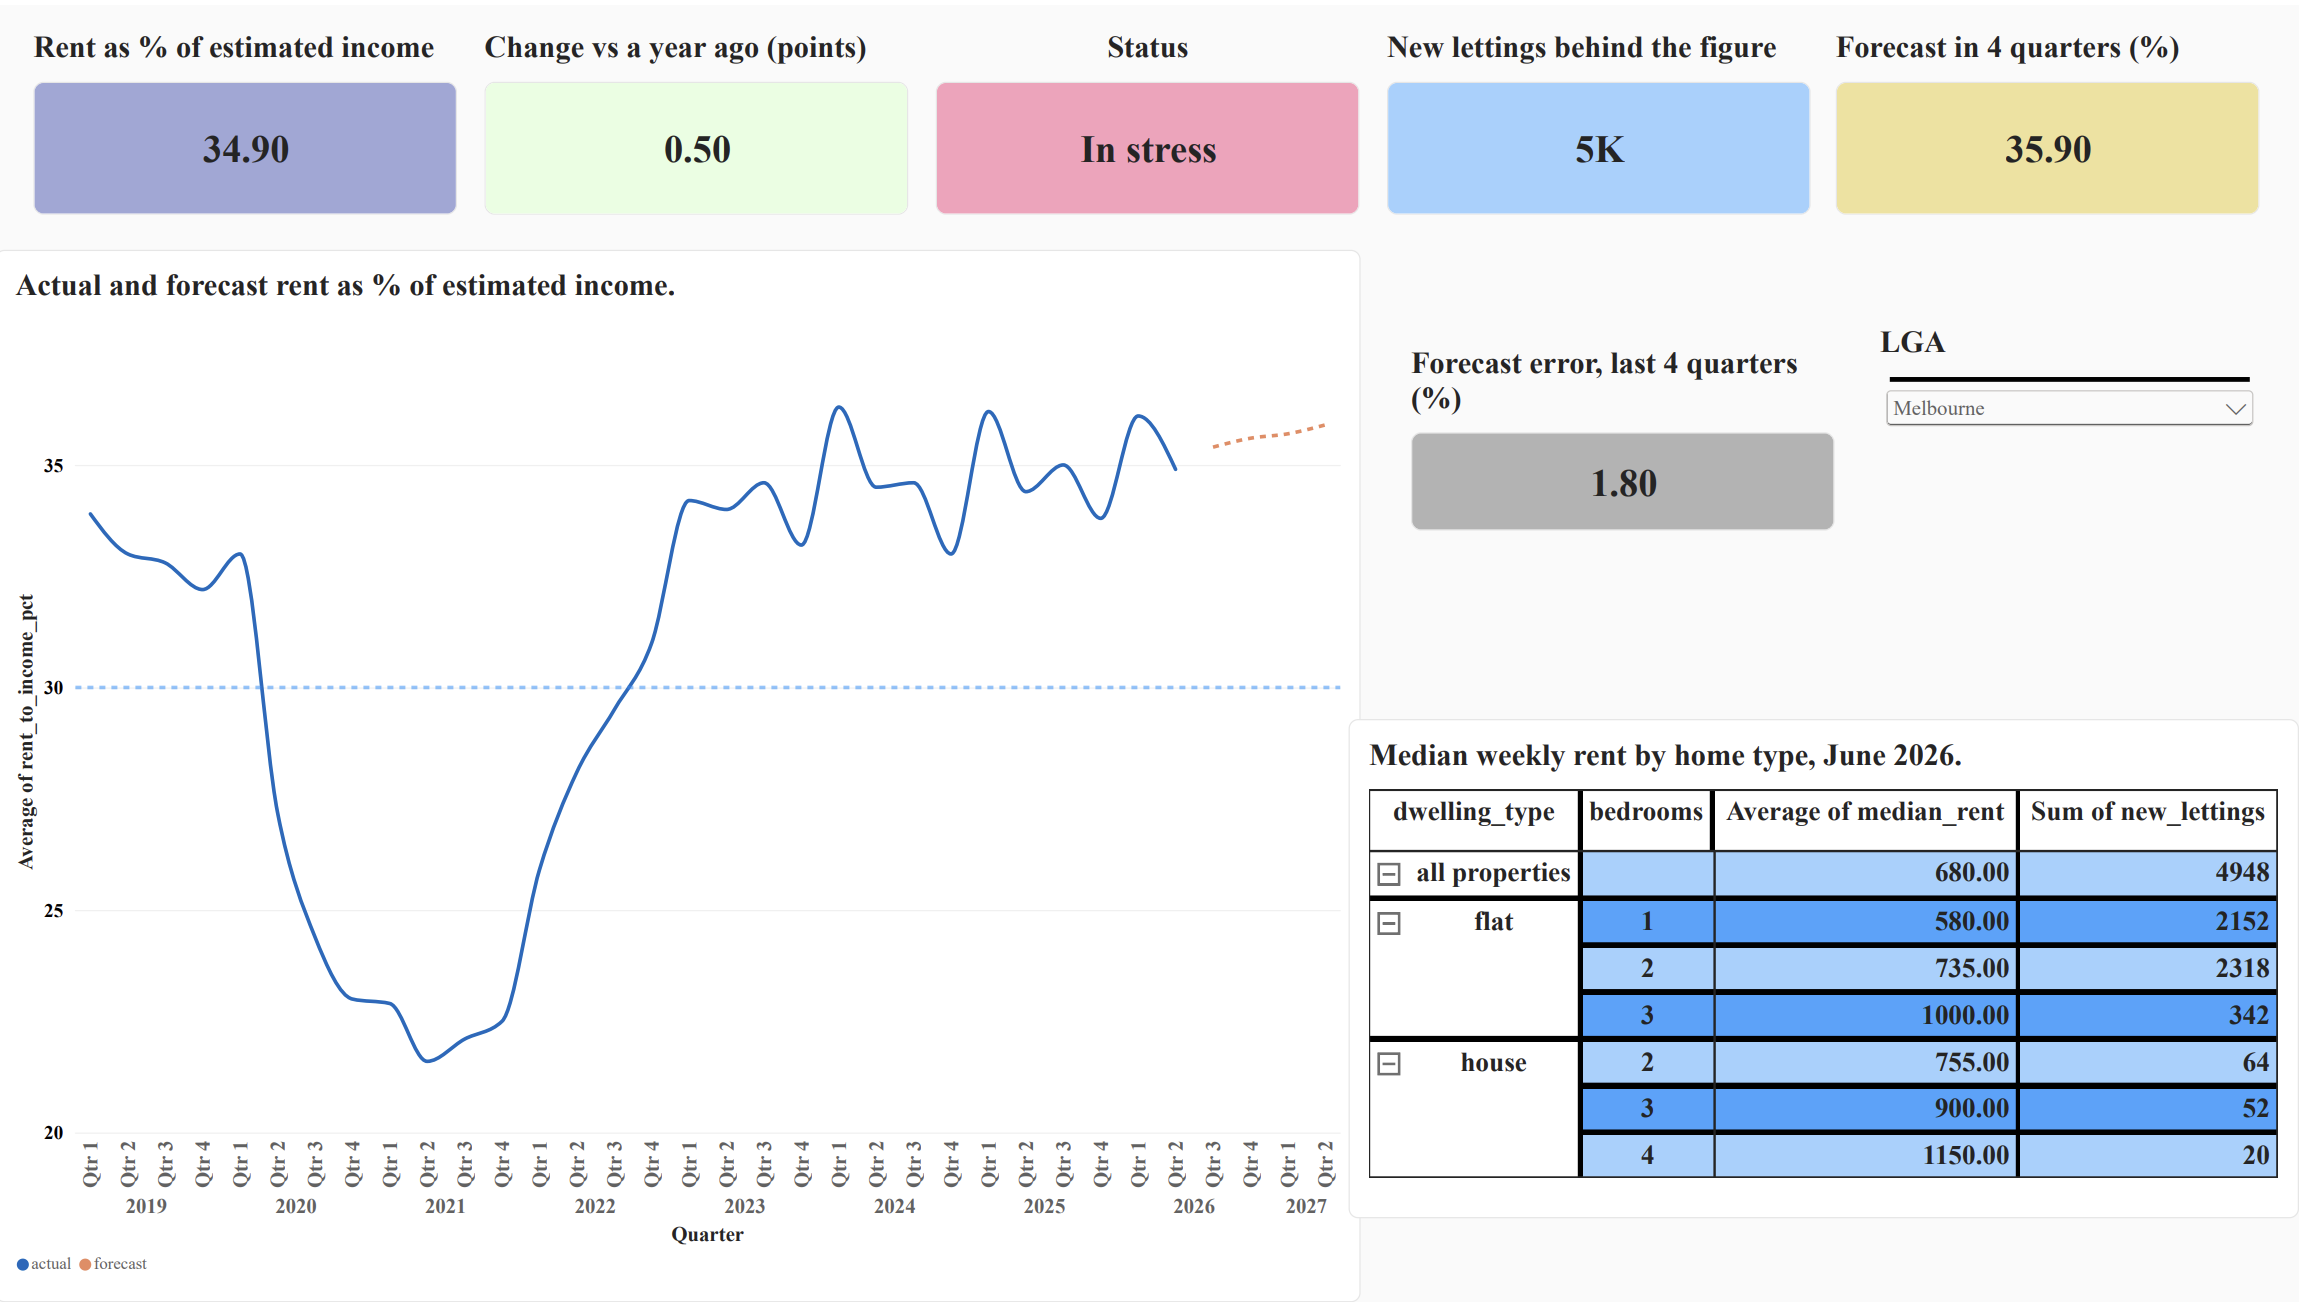

This screenshot's page, from the dashboard's own definition file:
{"tool":"powerbi","page":{"name":"Council drill-down","canvas":[1920,1080],"ordinal":1},"visuals":[{"type":"slicer","title":"LGA","fields":{"Values":["dim_lga.lga_name"]},"box":[1571.4,266.5,316.3,171.8],"z":0},{"type":"cardVisual","title":"Rent as % of estimated income","fields":{"Data":["Sum(early_warning.rent_to_income_pct)"]},"box":[32.4,19.9,353.6,154.4],"z":1000},{"type":"cardVisual","title":"Change vs a year ago (points)","fields":{"Data":["Avg(early_warning.yoy_change_pts)"]},"box":[408.4,19.9,353.6,154.4],"z":2000},{"type":"cardVisual","title":"Status","fields":{"Data":["Min(early_warning.status)"]},"box":[784.4,19.9,353.6,154.4],"z":3000},{"type":"cardVisual","title":"New lettings behind the figure","fields":{"Data":["Sum(early_warning.new_lettings)"]},"box":[1160.5,19.9,353.6,154.4],"z":4000},{"type":"cardVisual","title":"Forecast in 4 quarters (%)","fields":{"Data":["Avg(forecast.forecast_4q_pct)"]},"box":[1534,19.9,353.6,154.4],"z":5000},{"type":"cardVisual","title":"Forecast error, last 4 quarters (%)","fields":{"Data":["Avg(forecast.backtest_mape_pct)"]},"box":[1180.4,283.9,353.6,154.4],"z":6000},{"type":"lineChart","title":"Actual and forecast rent as % of estimated income.","fields":{"Category":["forecast_series.quarter_end.Variation.Date Hierarchy.Year","forecast_series.quarter_end.Variation.Date Hierarchy.Quarter"],"Series":["forecast_series.series"],"Y":["Avg(forecast_series.rent_to_income_pct)"]},"box":[0,204.2,1138.1,876.6],"z":7000},{"type":"pivotTable","title":"Median weekly rent by home type, June 2026.","fields":{"Rows":["fact_rent.dwelling_type","fact_rent.bedrooms"],"Values":["Avg(fact_rent.median_rent)","Sum(fact_rent.new_lettings)"]},"box":[1128.1,595.2,791.9,415.9],"z":8000}]}

Visuals, with their boxes in screenshot pixels (x1, y1, x2, y2), scaled from the page's 1920x1080 canvas onto the 2299x1302 screenshot:
"LGA" slicer: <box>1882,321,2260,528</box>
"Rent as % of estimated income" cardVisual: <box>39,24,462,210</box>
"Change vs a year ago (points)" cardVisual: <box>489,24,912,210</box>
"Status" cardVisual: <box>939,24,1363,210</box>
"New lettings behind the figure" cardVisual: <box>1390,24,1813,210</box>
"Forecast in 4 quarters (%)" cardVisual: <box>1837,24,2260,210</box>
"Forecast error, last 4 quarters (%)" cardVisual: <box>1413,342,1837,528</box>
"Actual and forecast rent as % of estimated income." lineChart: <box>0,246,1363,1301</box>
"Median weekly rent by home type, June 2026." pivotTable: <box>1351,718,2298,1219</box>
